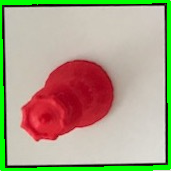Red Queen: (18, 57, 117, 142)
